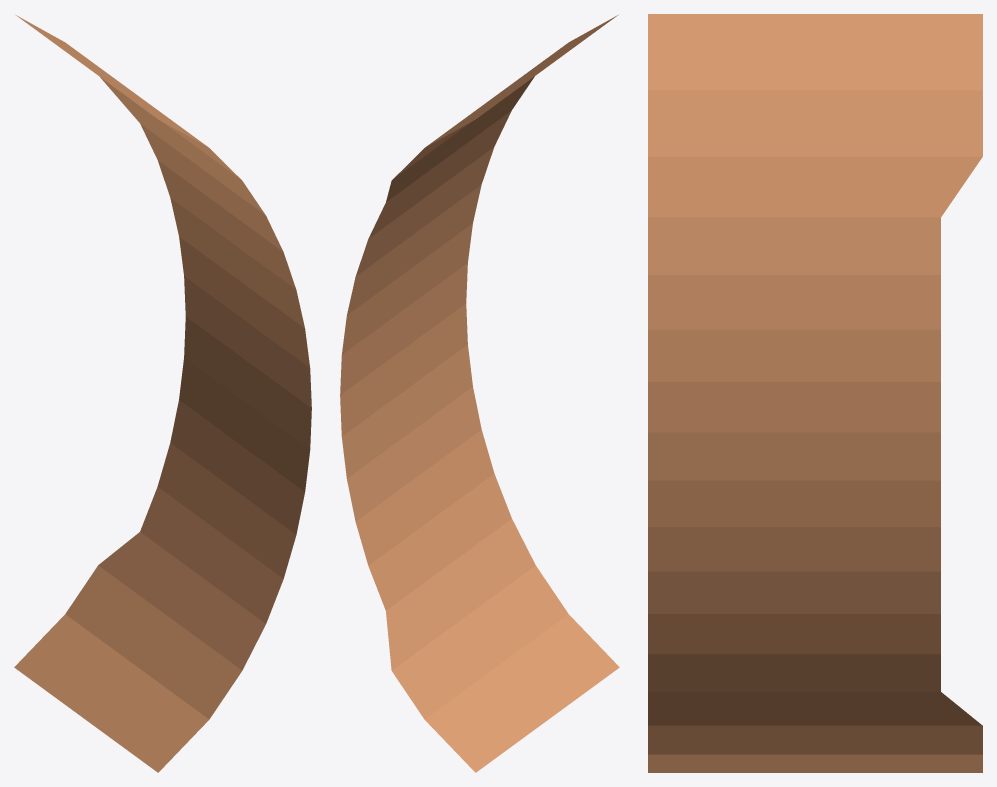
Rendered from wedgeAnimCut.fbx.
The picture shows the model from 3 angles, left to right: view 1: azimuth 30°, elevation 25°; view 2: azimuth 150°, elevation 25°; view 3: azimuth 270°, elevation 25°; orthographic projection. The views are drawn at different scales.
Parts seen in each view (by area): view 1: wedge AnimCut; view 2: wedge AnimCut; view 3: wedge AnimCut.
Part boxes in pixels (left/top/right/bottom): wedge AnimCut: left=14, top=15, right=311, bottom=772; wedge AnimCut: left=340, top=15, right=619, bottom=772; wedge AnimCut: left=648, top=14, right=982, bottom=772.
Size of the model in its own units: 8 by 4.92 by 20.
